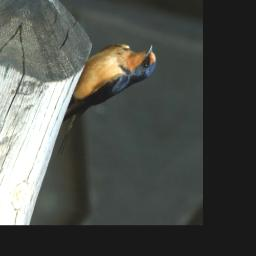Swallow: (52, 29, 162, 175)
